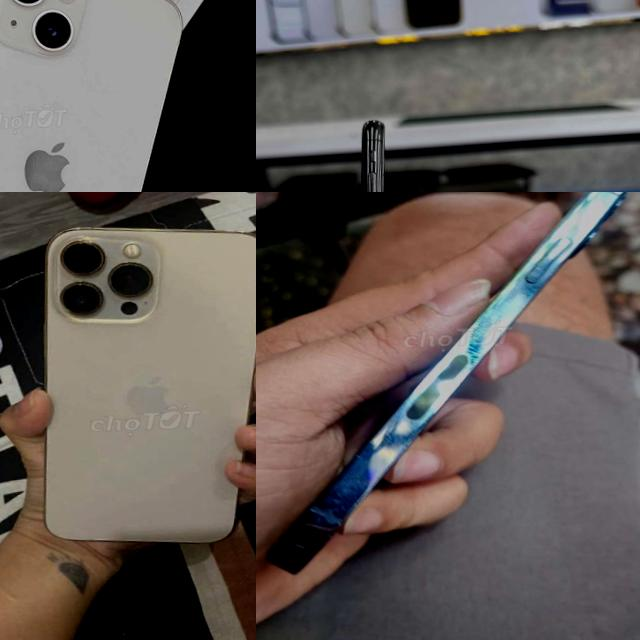gen_12_13: (257, 192, 640, 577), (25, 213, 256, 556)
gen_14: (0, 0, 199, 192)
gen_x_xs: (320, 109, 407, 192)
